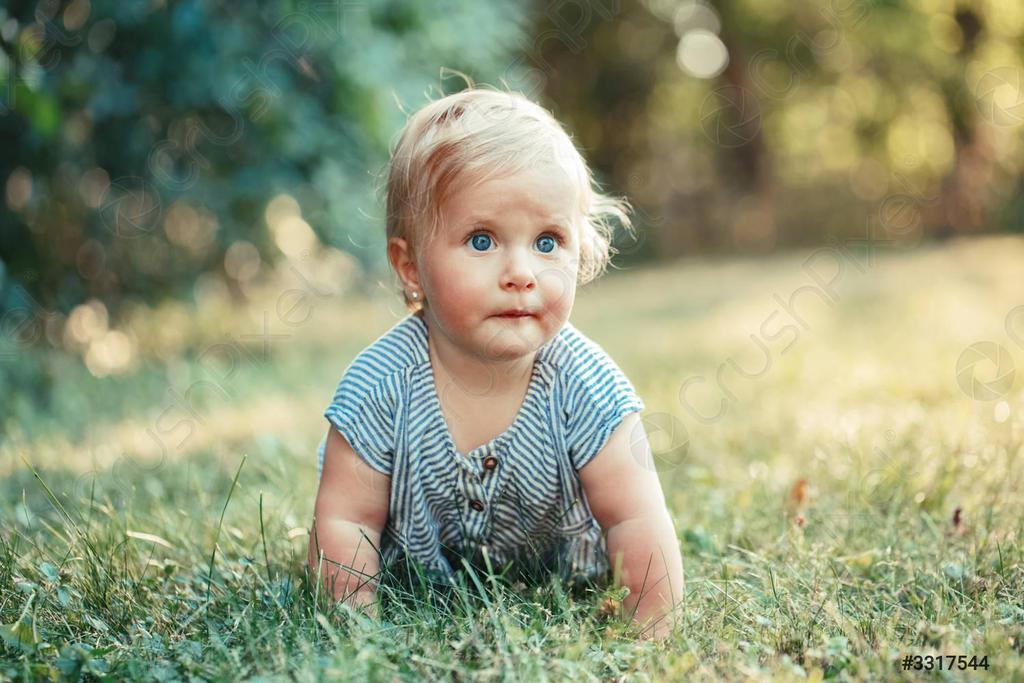child: (253, 72, 727, 648)
